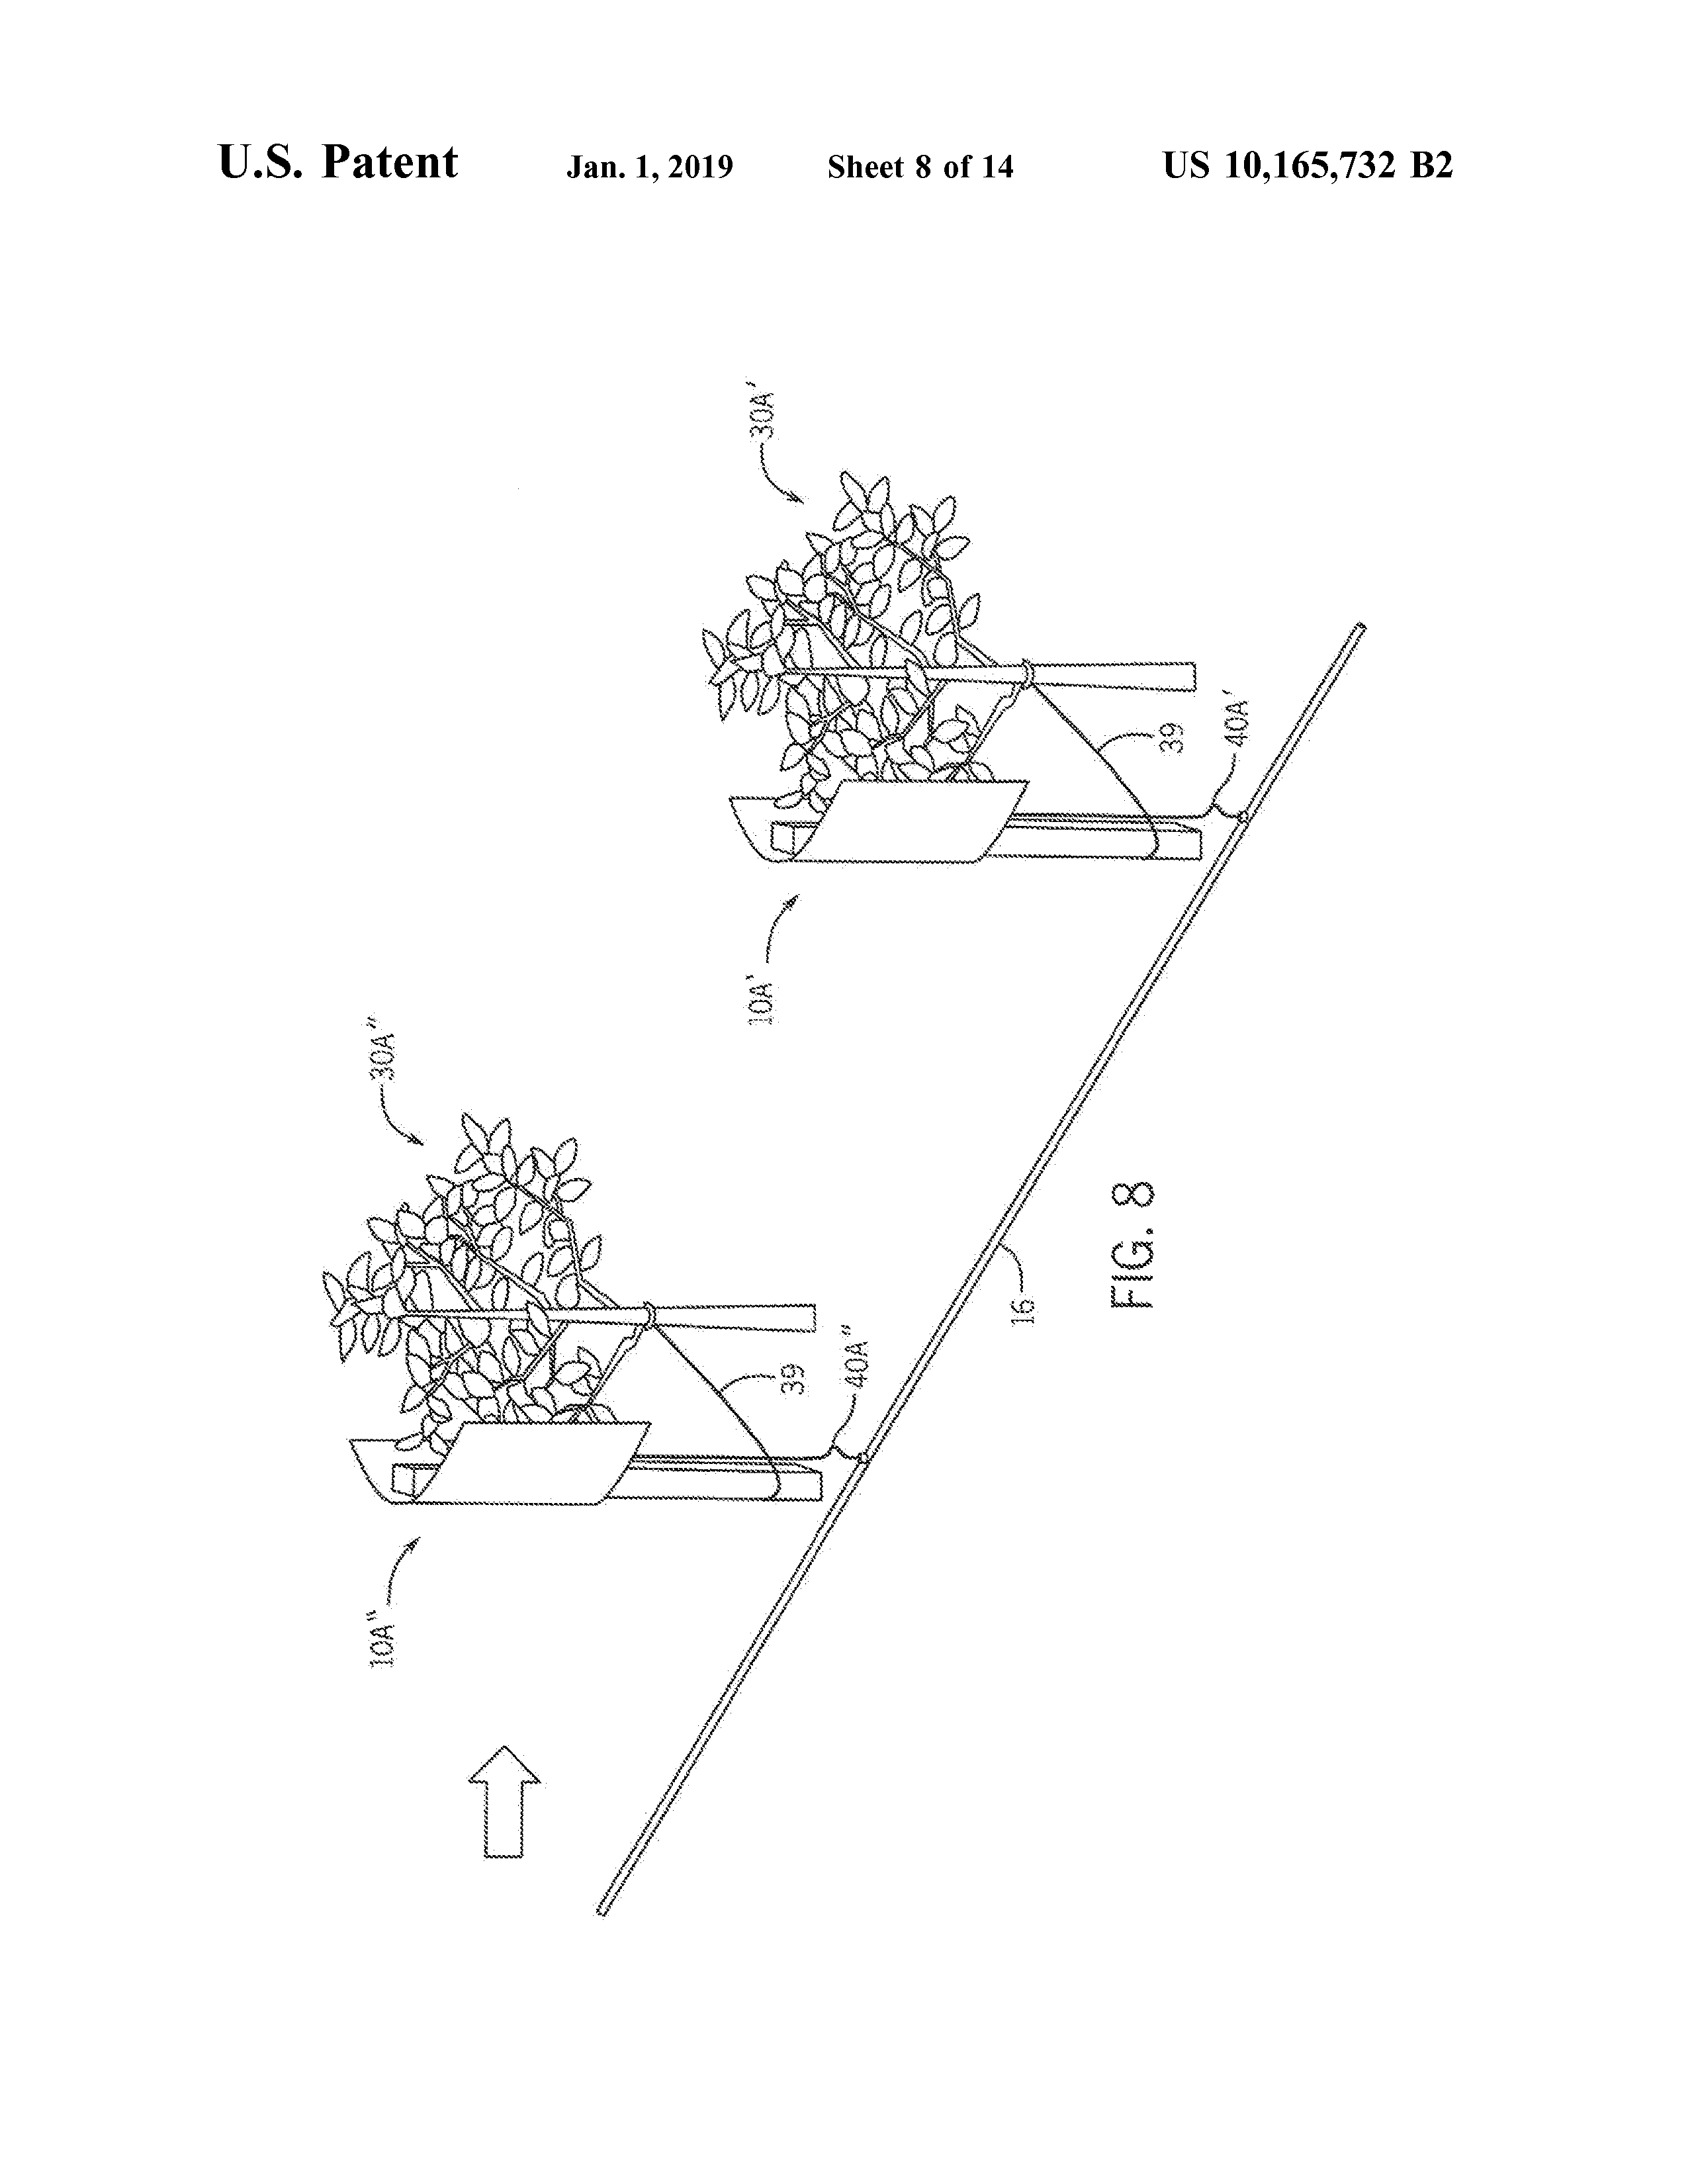patent image: (296, 371, 1400, 1988)
